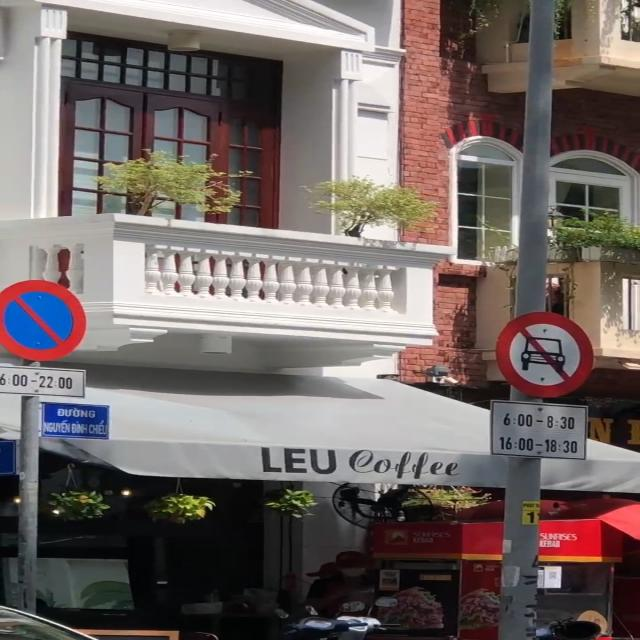Bien bao cam do xe: (0, 275, 92, 365)
Bien bao cam xe oto: (496, 308, 602, 395)
